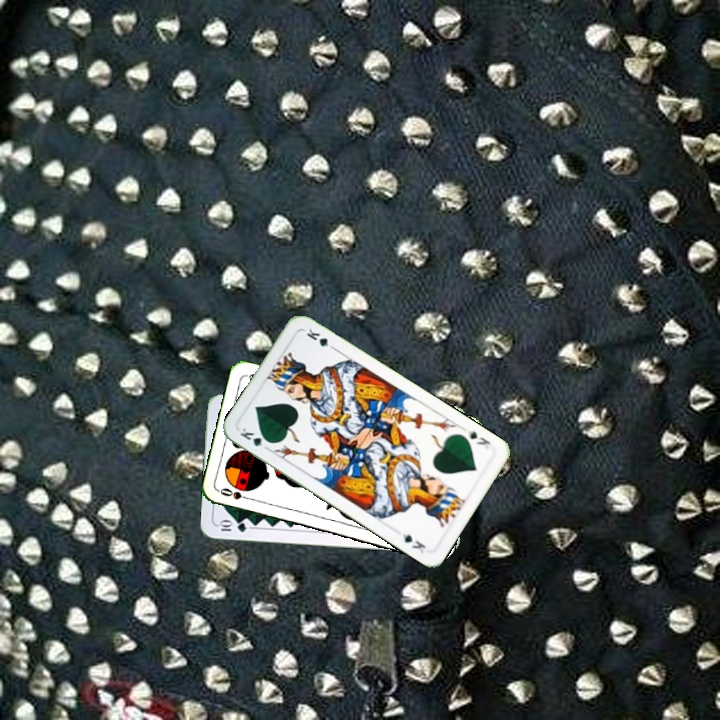G10: (215, 518, 249, 534)
GK: (236, 424, 274, 453), (460, 424, 493, 452)
SO: (216, 484, 256, 503)
